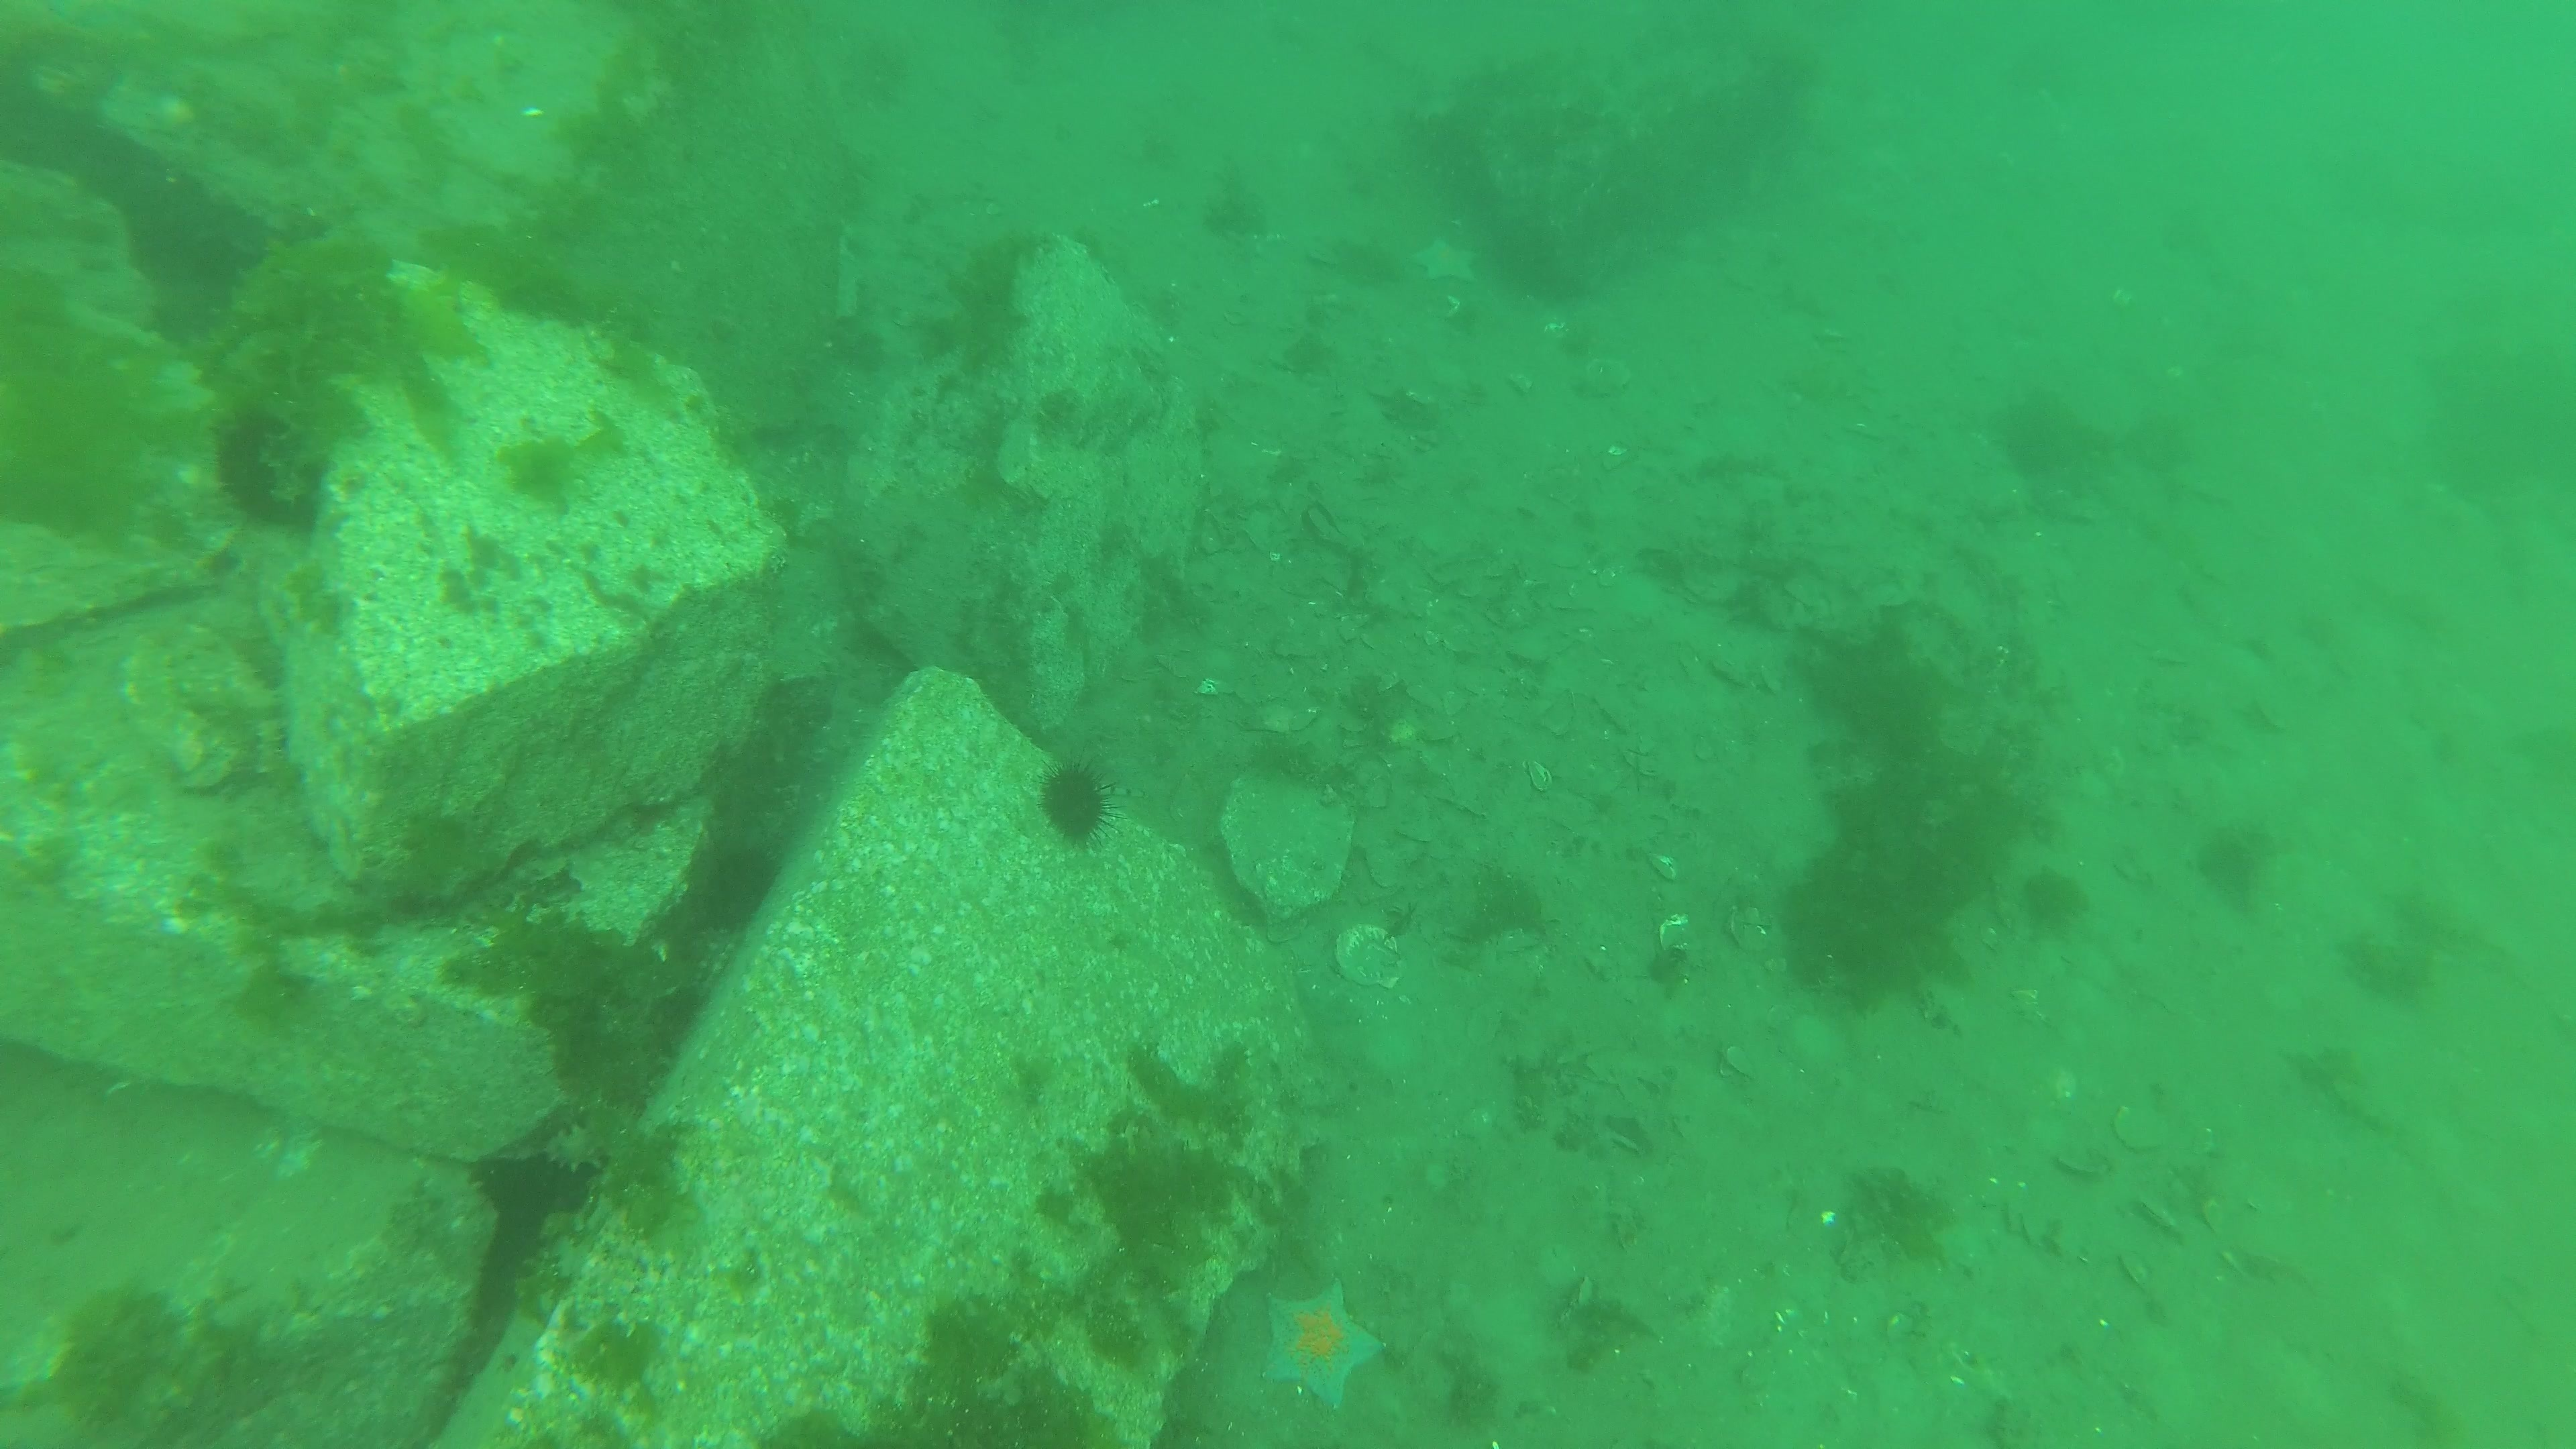echinus: (209, 400, 327, 534), (1033, 743, 1123, 853), (702, 842, 782, 931)
holothurian: (543, 1122, 616, 1175), (253, 718, 287, 777)
scallop: (1334, 916, 1414, 994)
starfish: (1260, 1274, 1391, 1412), (1407, 235, 1479, 285)
